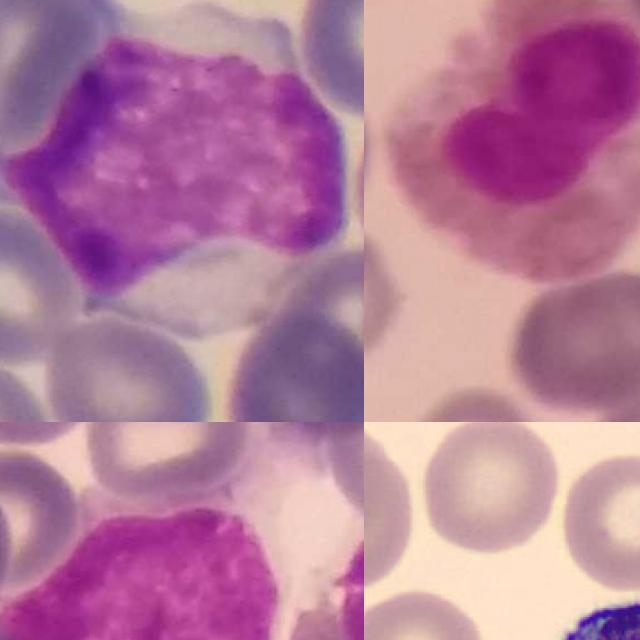Eosinophil: (390, 0, 640, 283)
Monocyte: (15, 0, 347, 339)
RBC: (0, 506, 288, 640), (414, 422, 565, 558), (556, 447, 640, 594), (364, 444, 418, 597), (364, 586, 490, 640)
